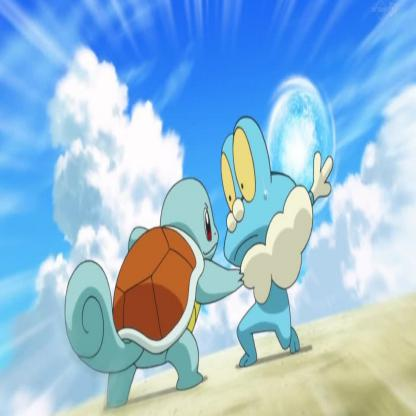Squirtle: (71, 176, 240, 415)
